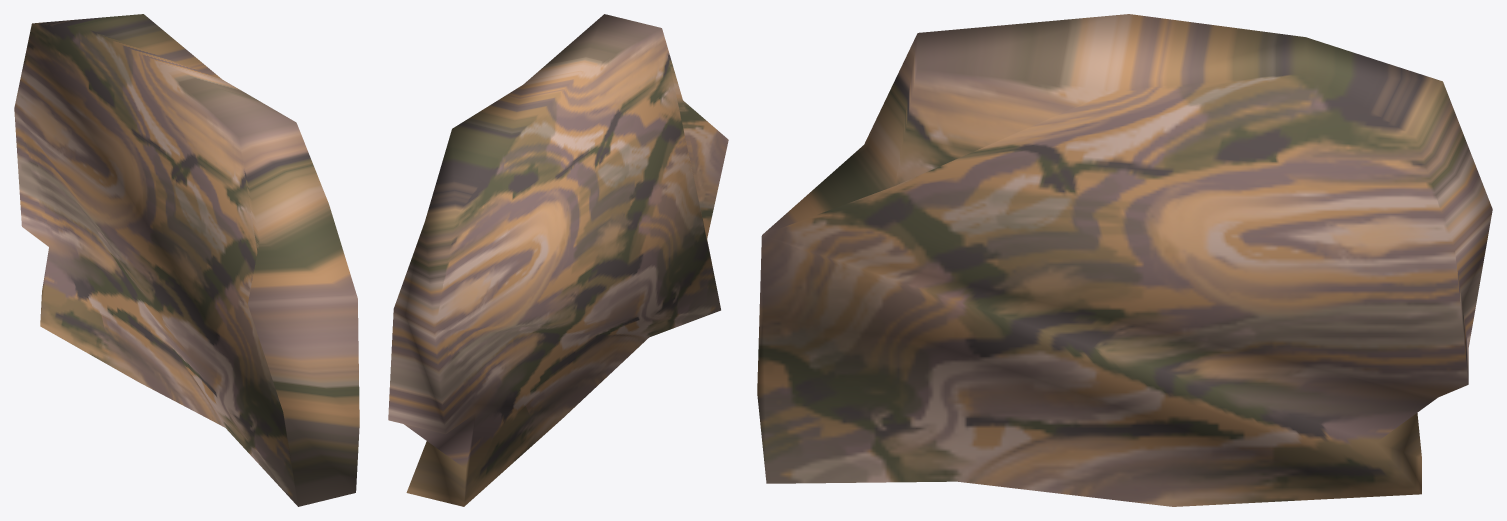
The model's file is mylonite.fbx.
The picture shows the model from 3 angles, left to right: view 1: azimuth 30°, elevation 25°; view 2: azimuth 150°, elevation 25°; view 3: azimuth 270°, elevation 25°; orthographic projection. The views are drawn at different scales.
Visible parts, largest first — view 1: mylonite; view 2: mylonite; view 3: mylonite.
Part boxes in pixels (x1,y1,x2,y2): mylonite: (14,14,359,506); mylonite: (388,14,728,506); mylonite: (757,14,1492,506).
Bounding box in the file's own units: 11.59 × 36.15 × 52.71.
